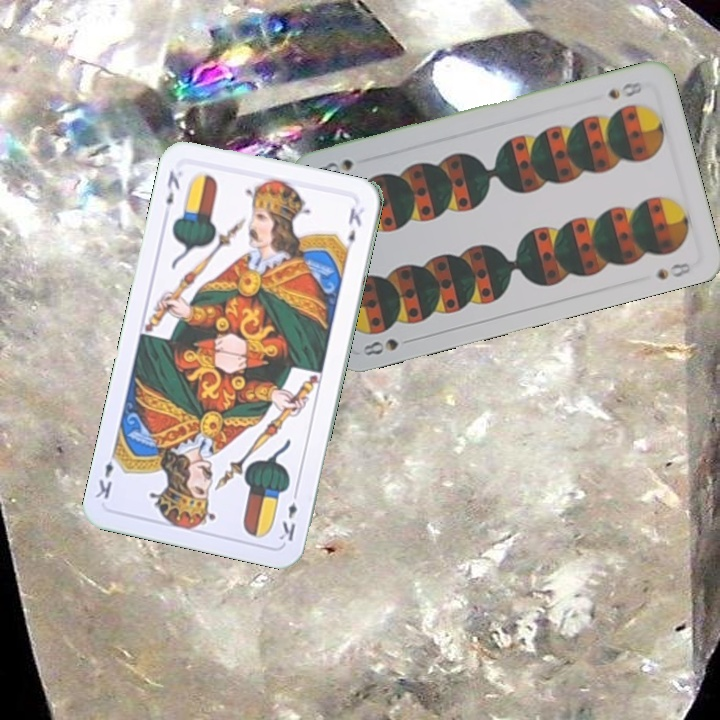EK: (275, 485, 301, 544), (162, 166, 183, 208)
S8: (358, 334, 417, 359), (603, 78, 647, 102)
